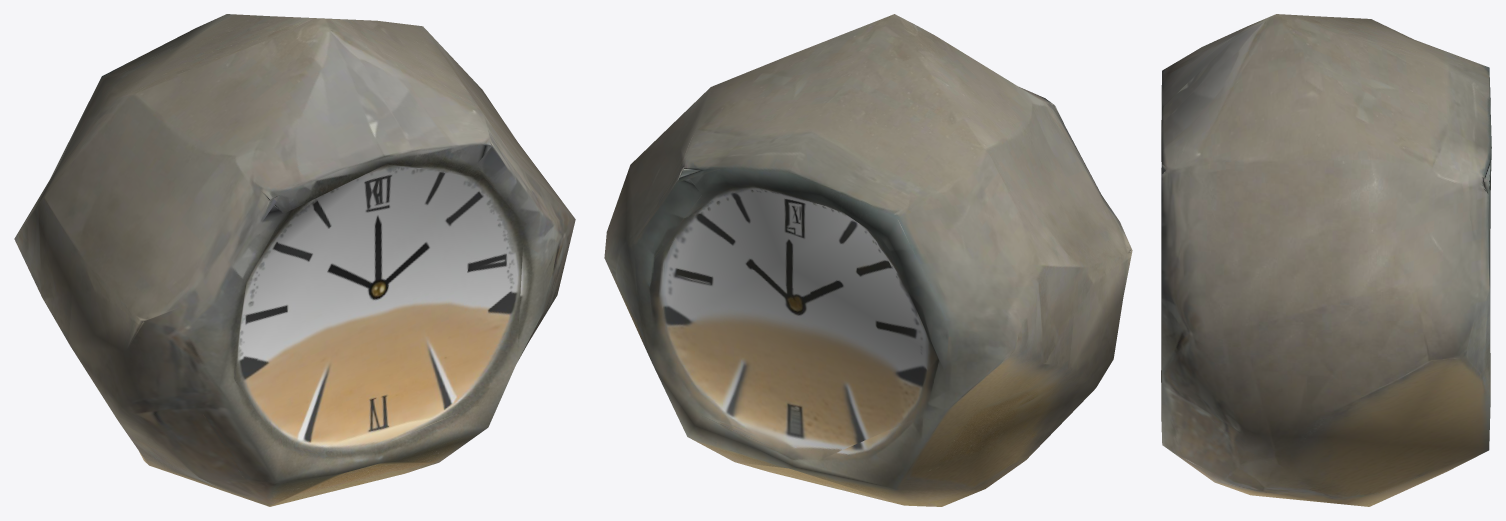
The model's file is a_single_low_poly_3D_0727045151_texture.fbx.
3 renders of one model, left to right at view 1: azimuth 30°, elevation 25°; view 2: azimuth 150°, elevation 25°; view 3: azimuth 270°, elevation 25°, orthographic. The views are drawn at different scales.
Parts seen in each view (by area): view 1: Mesh1; view 2: Mesh1; view 3: Mesh1.
Boxes of the visible parts, <box> form: Mesh1: <box>14,14,575,506</box>; Mesh1: <box>604,14,1132,506</box>; Mesh1: <box>1161,14,1491,506</box>.
Bounding box in the file's own units: 198 × 199 × 132.
1 material, 1 textured.
